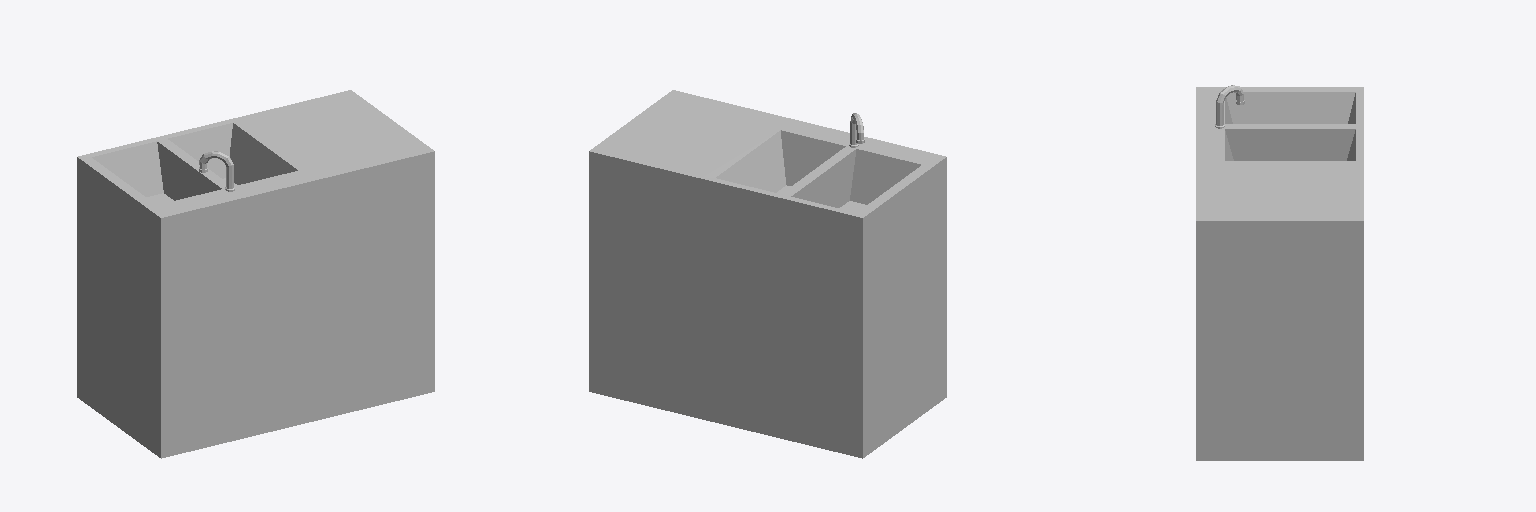
File: trastero.obj
The picture shows the model from 3 angles: view 1: azimuth 30°, elevation 25°; view 2: azimuth 150°, elevation 25°; view 3: azimuth 270°, elevation 25°; orthographic projection.
Visible parts, largest first — view 1: polySurface219; view 2: polySurface219; view 3: polySurface219.
Part boxes in pixels (x1,y1,x2,y2): polySurface219: (77,90,434,458); polySurface219: (589,90,946,458); polySurface219: (1196,85,1363,460).
Bounding box in the file's own units: 2.02 × 1.95 × 1.07.